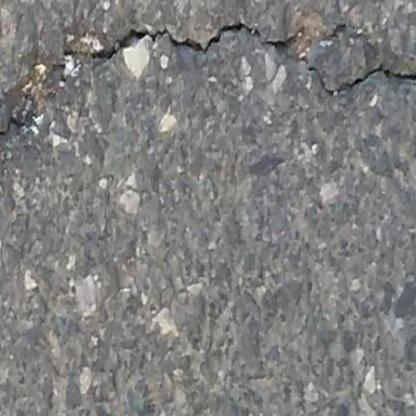Cracks: (48, 17, 416, 100), (0, 116, 26, 161), (316, 17, 355, 47)
